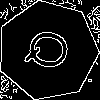Q: (23, 25, 81, 76)
